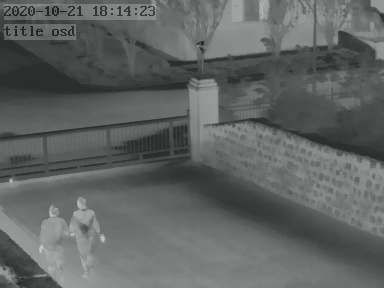person: (71, 196, 107, 279), (37, 201, 64, 281)
